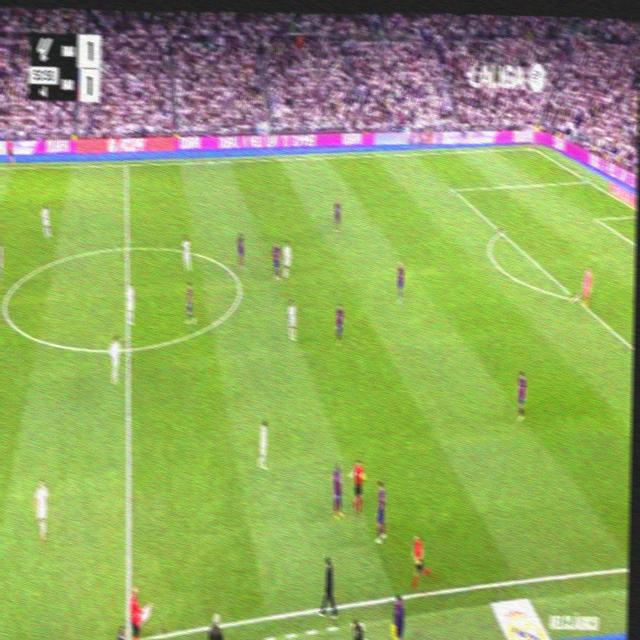bigarea_top_inner: (449, 181, 458, 196)
bigarea_top_outter: (582, 173, 591, 186)
bottom_arc_area_intersection: (569, 289, 580, 305)
corner: (529, 144, 536, 152)
halfcircle_bottom: (122, 335, 134, 361)
halfcircle_top: (121, 236, 132, 258)
midline_top_intersection: (122, 158, 130, 172)
smallarea_top_inner: (594, 214, 600, 223)
top_arc_area_intersection: (497, 224, 505, 238)
